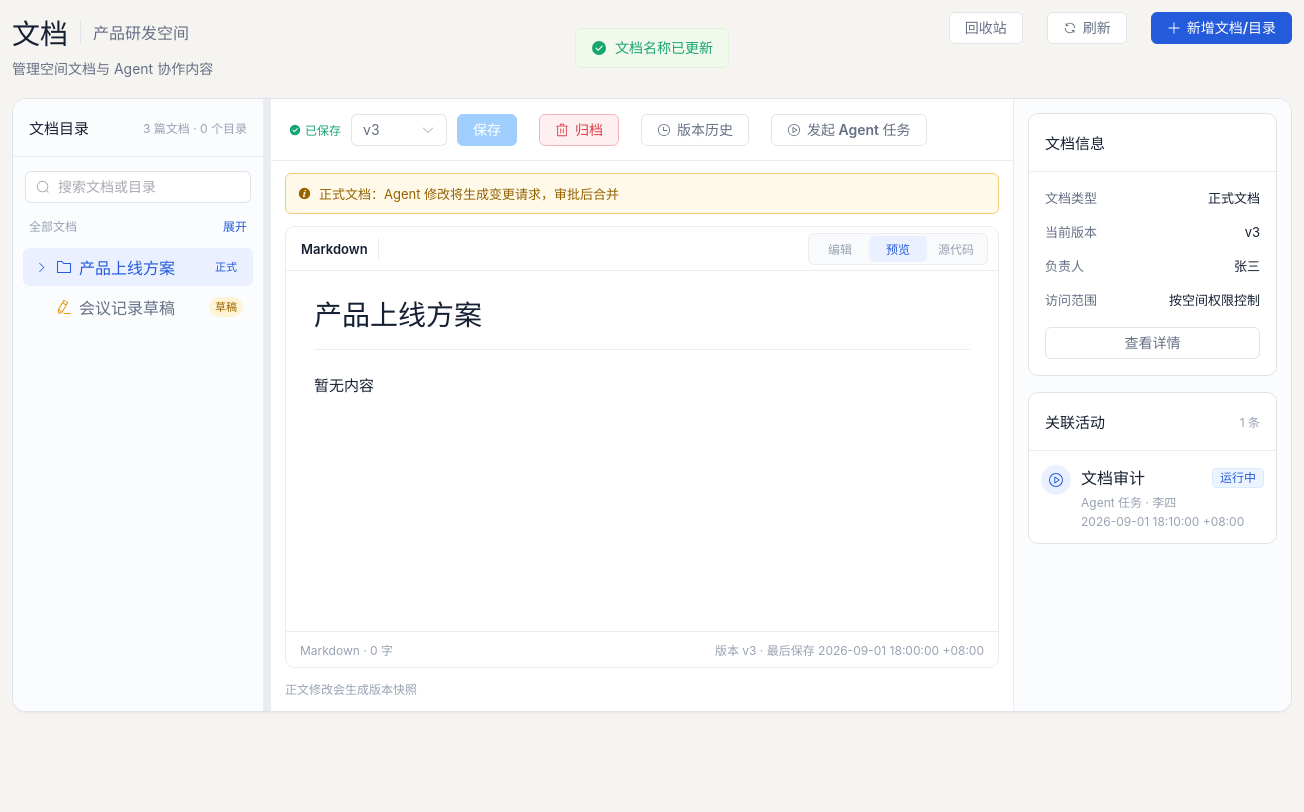
it: DocumentEditorView › preserves plain text entered in the visual editor after switching to preview
The image size is (1304, 812).
Click the tab with aria-label "编辑模式" at (840, 248), box [811,236,869,262]
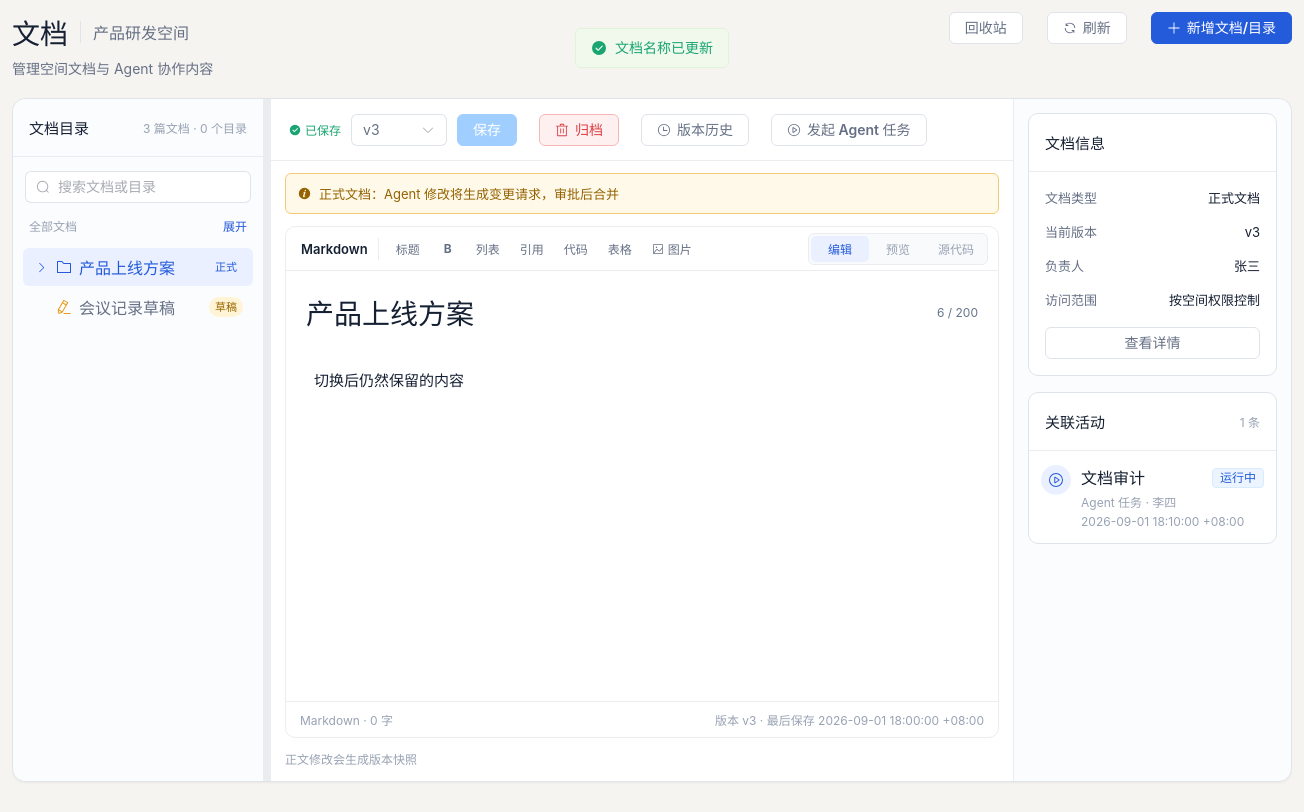
Clear the field named "Markdown 可视化编辑器" at (389, 380), box [314,371,464,390]
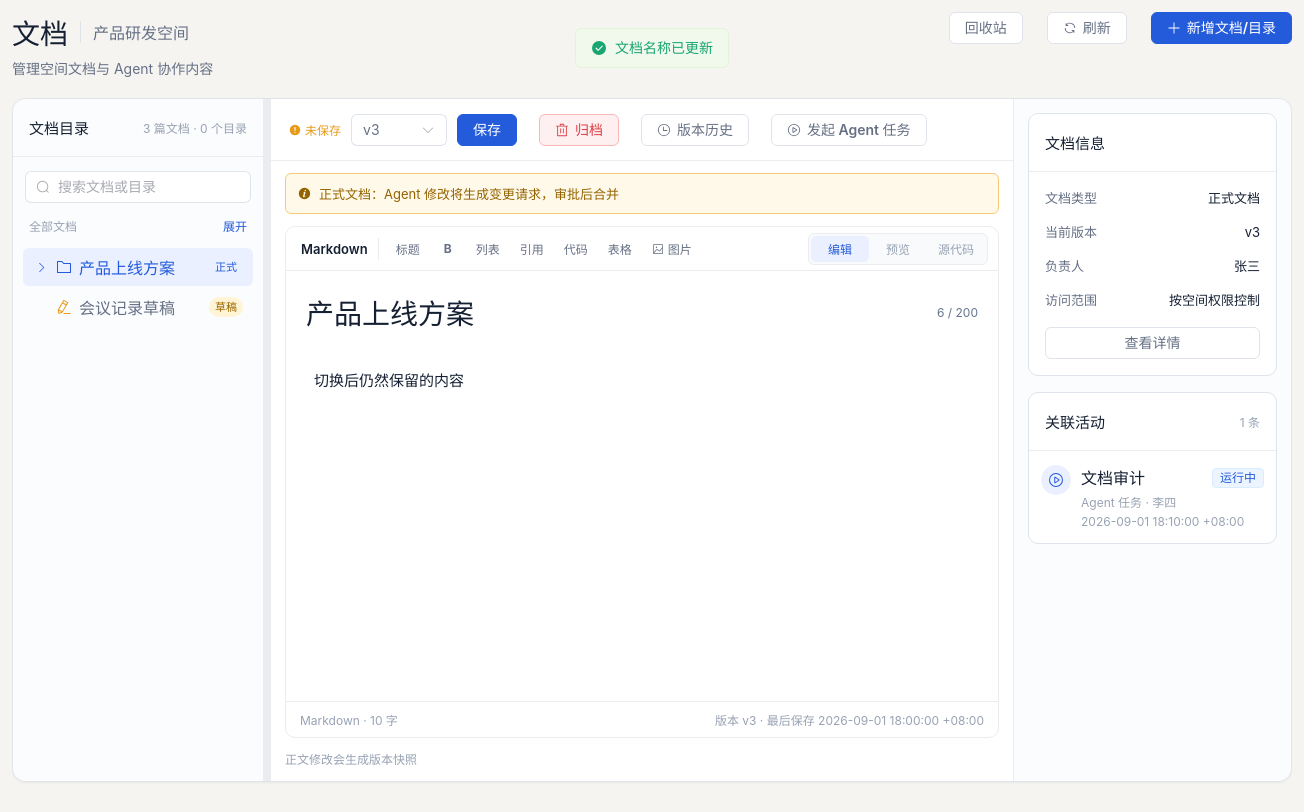
Click the tab with aria-label "预览模式" at (898, 248), box [869,236,927,262]
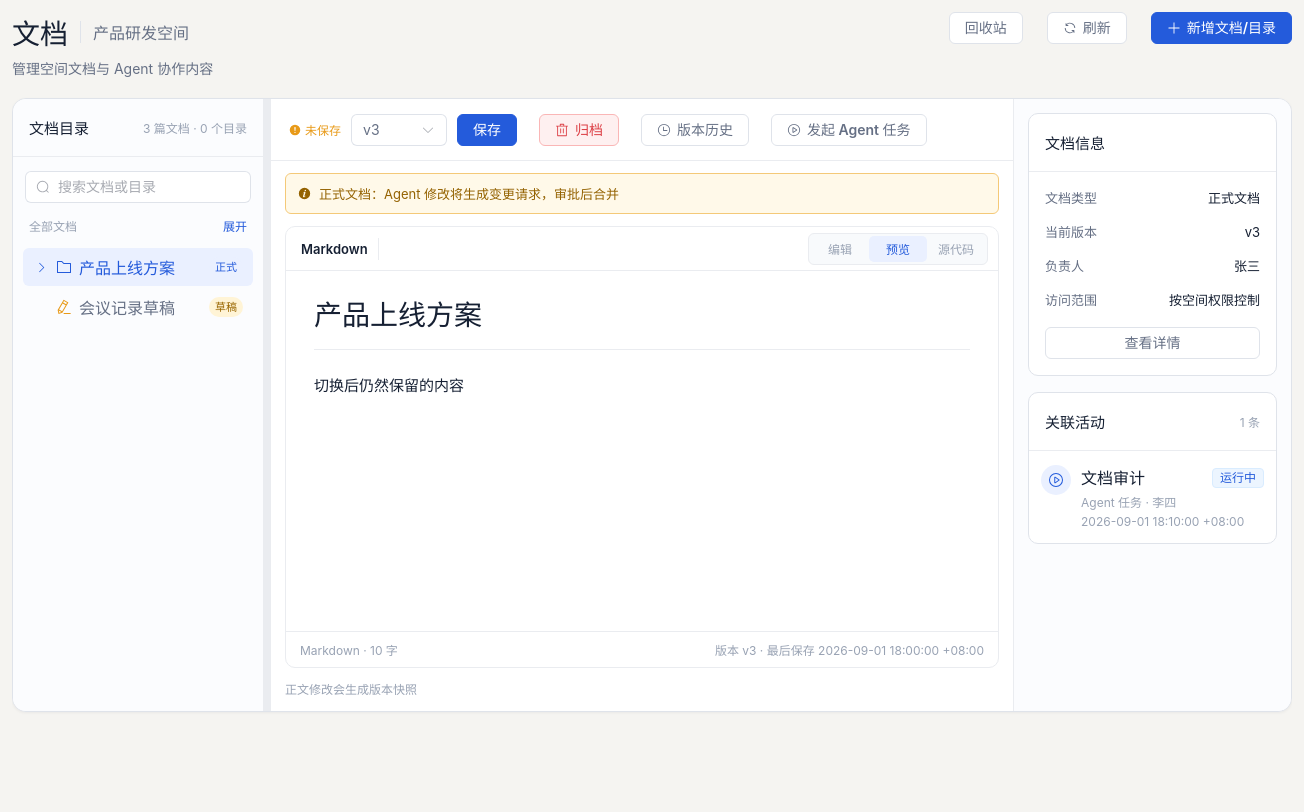
Expected: the element with class "markdown-editor__preview" shows "切换后仍然保留的内容", [314,376,464,395]
